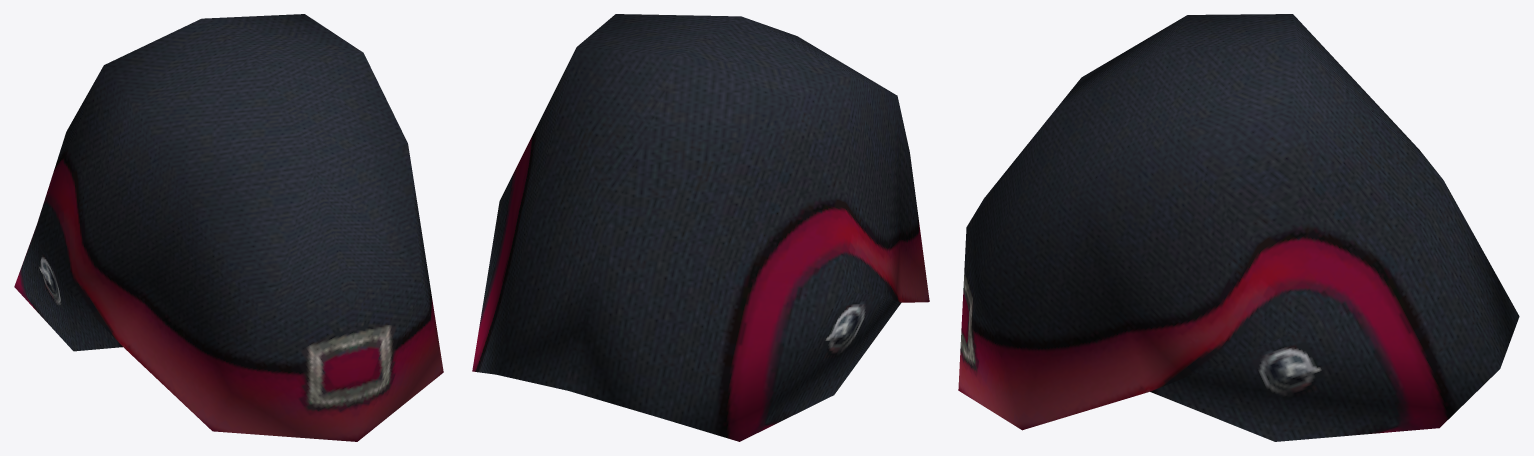
Rendered from Helmet4__BOS.glb.
3 renders of one model, left to right at view 1: azimuth 30°, elevation 25°; view 2: azimuth 150°, elevation 25°; view 3: azimuth 270°, elevation 25°, orthographic. The views are drawn at different scales.
Visible parts, largest first — view 1: Helmet4; view 2: Helmet4; view 3: Helmet4.
Boxes of the visible parts, box(x1,y1,x2,y2) form: Helmet4: box(14, 14, 443, 441); Helmet4: box(472, 14, 929, 441); Helmet4: box(958, 14, 1519, 441).
Bounding box in the file's own units: 12.19 × 10.84 × 16.01.
1 material, 1 textured.
